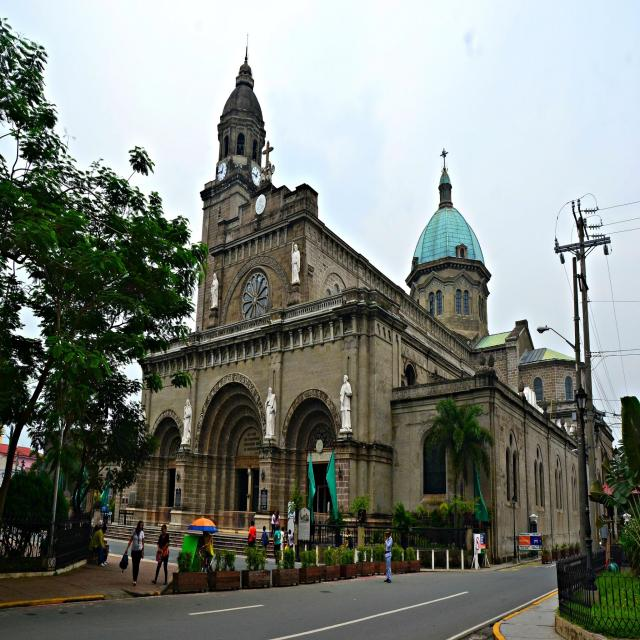Manila Cathedral: (114, 31, 616, 575)
